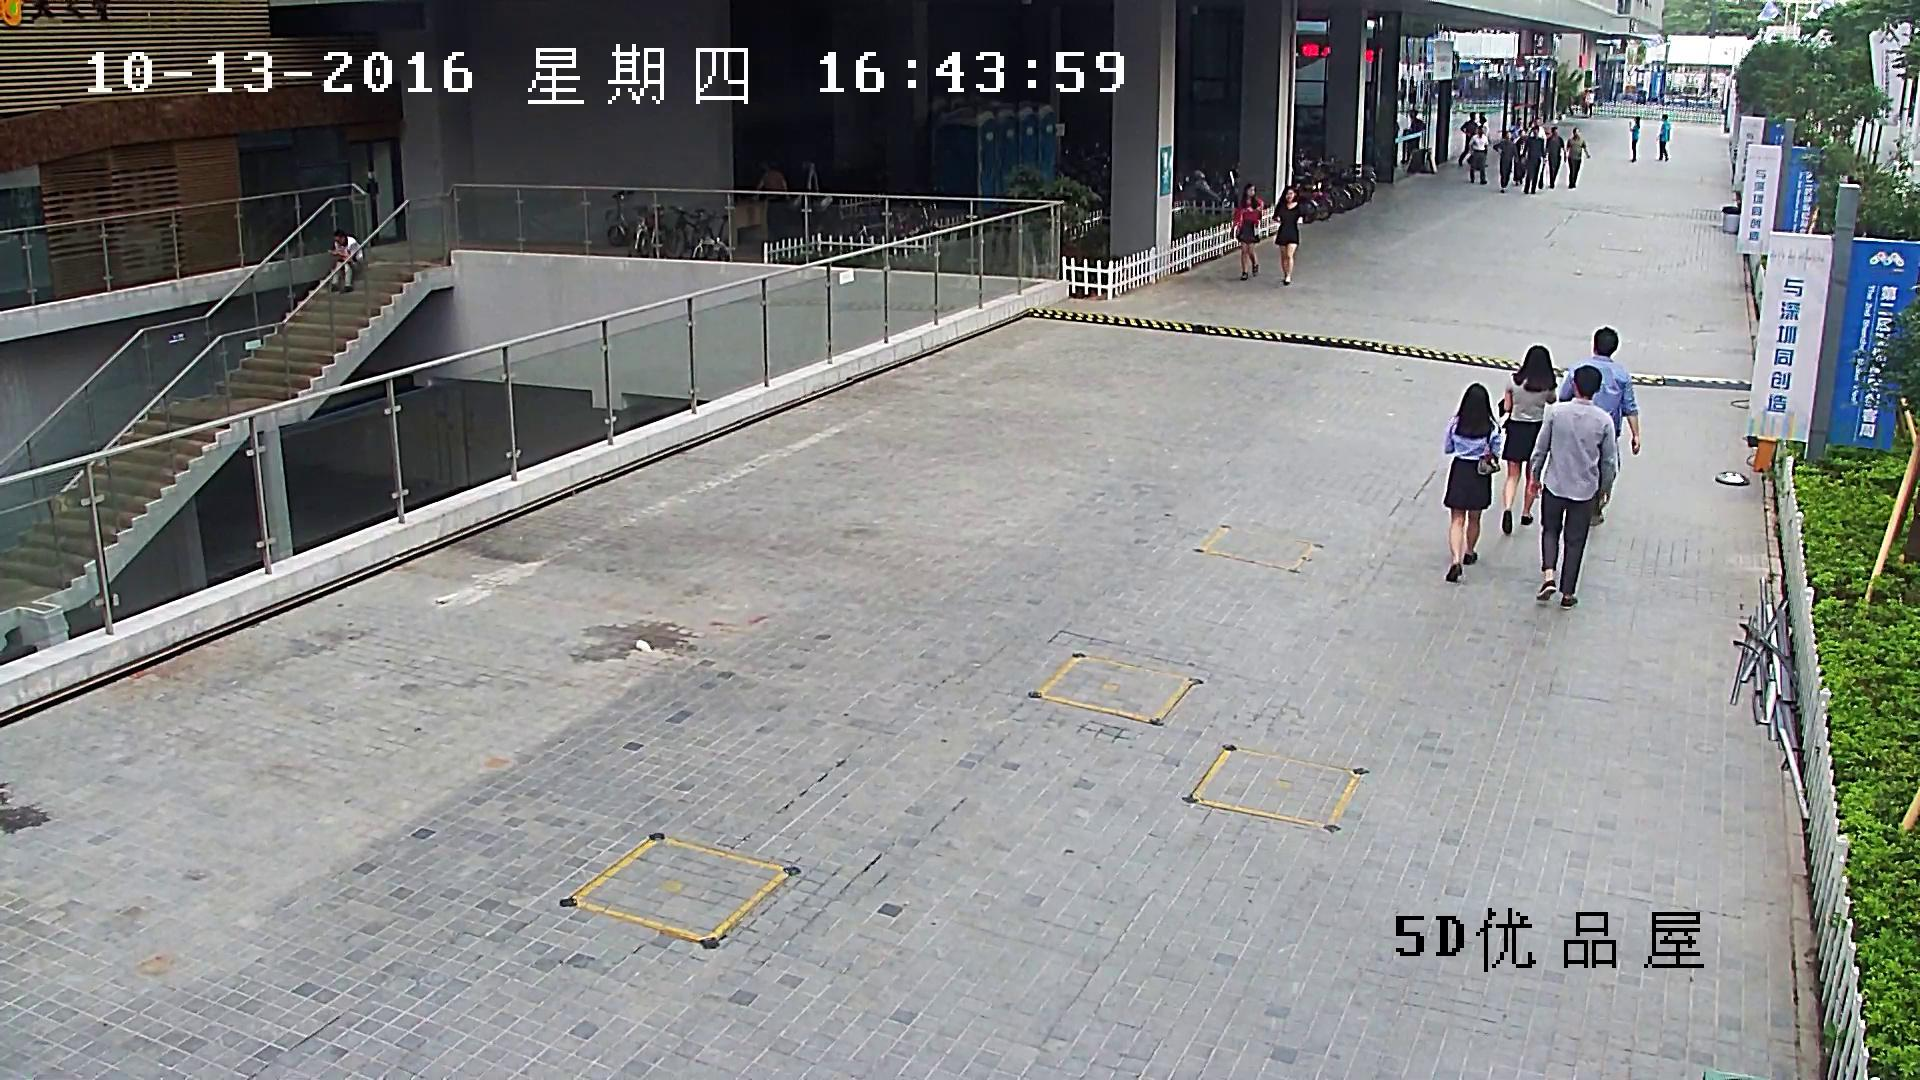person: (1528, 365, 1617, 609), (1558, 325, 1640, 525), (1441, 382, 1502, 583), (1497, 344, 1557, 535), (1233, 183, 1265, 280), (1273, 185, 1300, 285), (328, 229, 364, 291), (1493, 131, 1524, 192), (1522, 127, 1545, 194), (1567, 126, 1590, 189), (1546, 126, 1566, 189), (1404, 110, 1425, 164), (1469, 126, 1488, 184), (1459, 111, 1477, 166), (1658, 114, 1671, 160), (1629, 117, 1640, 163), (1477, 109, 1489, 153)
